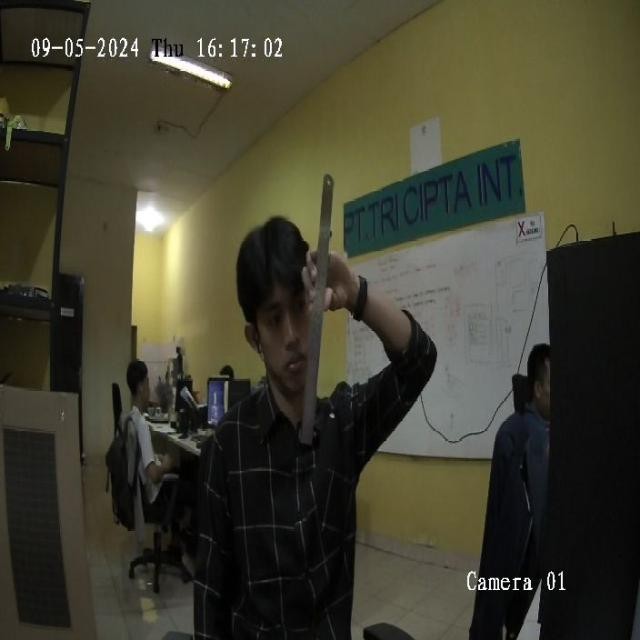Ruler: (299, 174, 334, 443)
